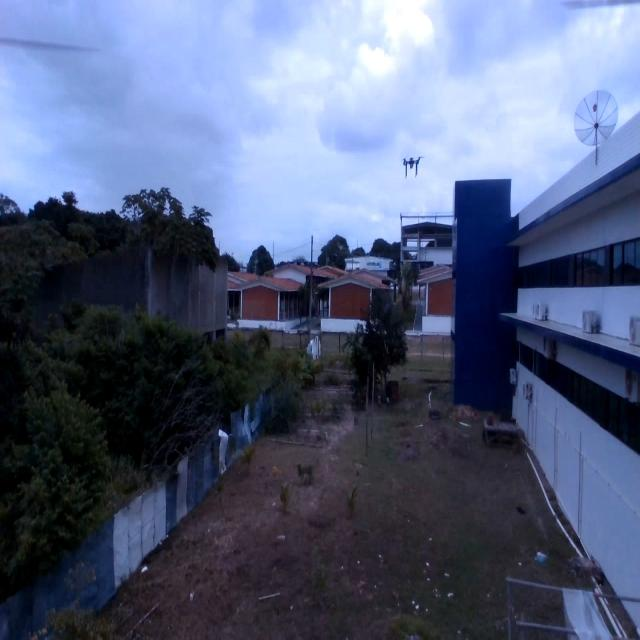-uav-: (396, 148, 427, 187)
